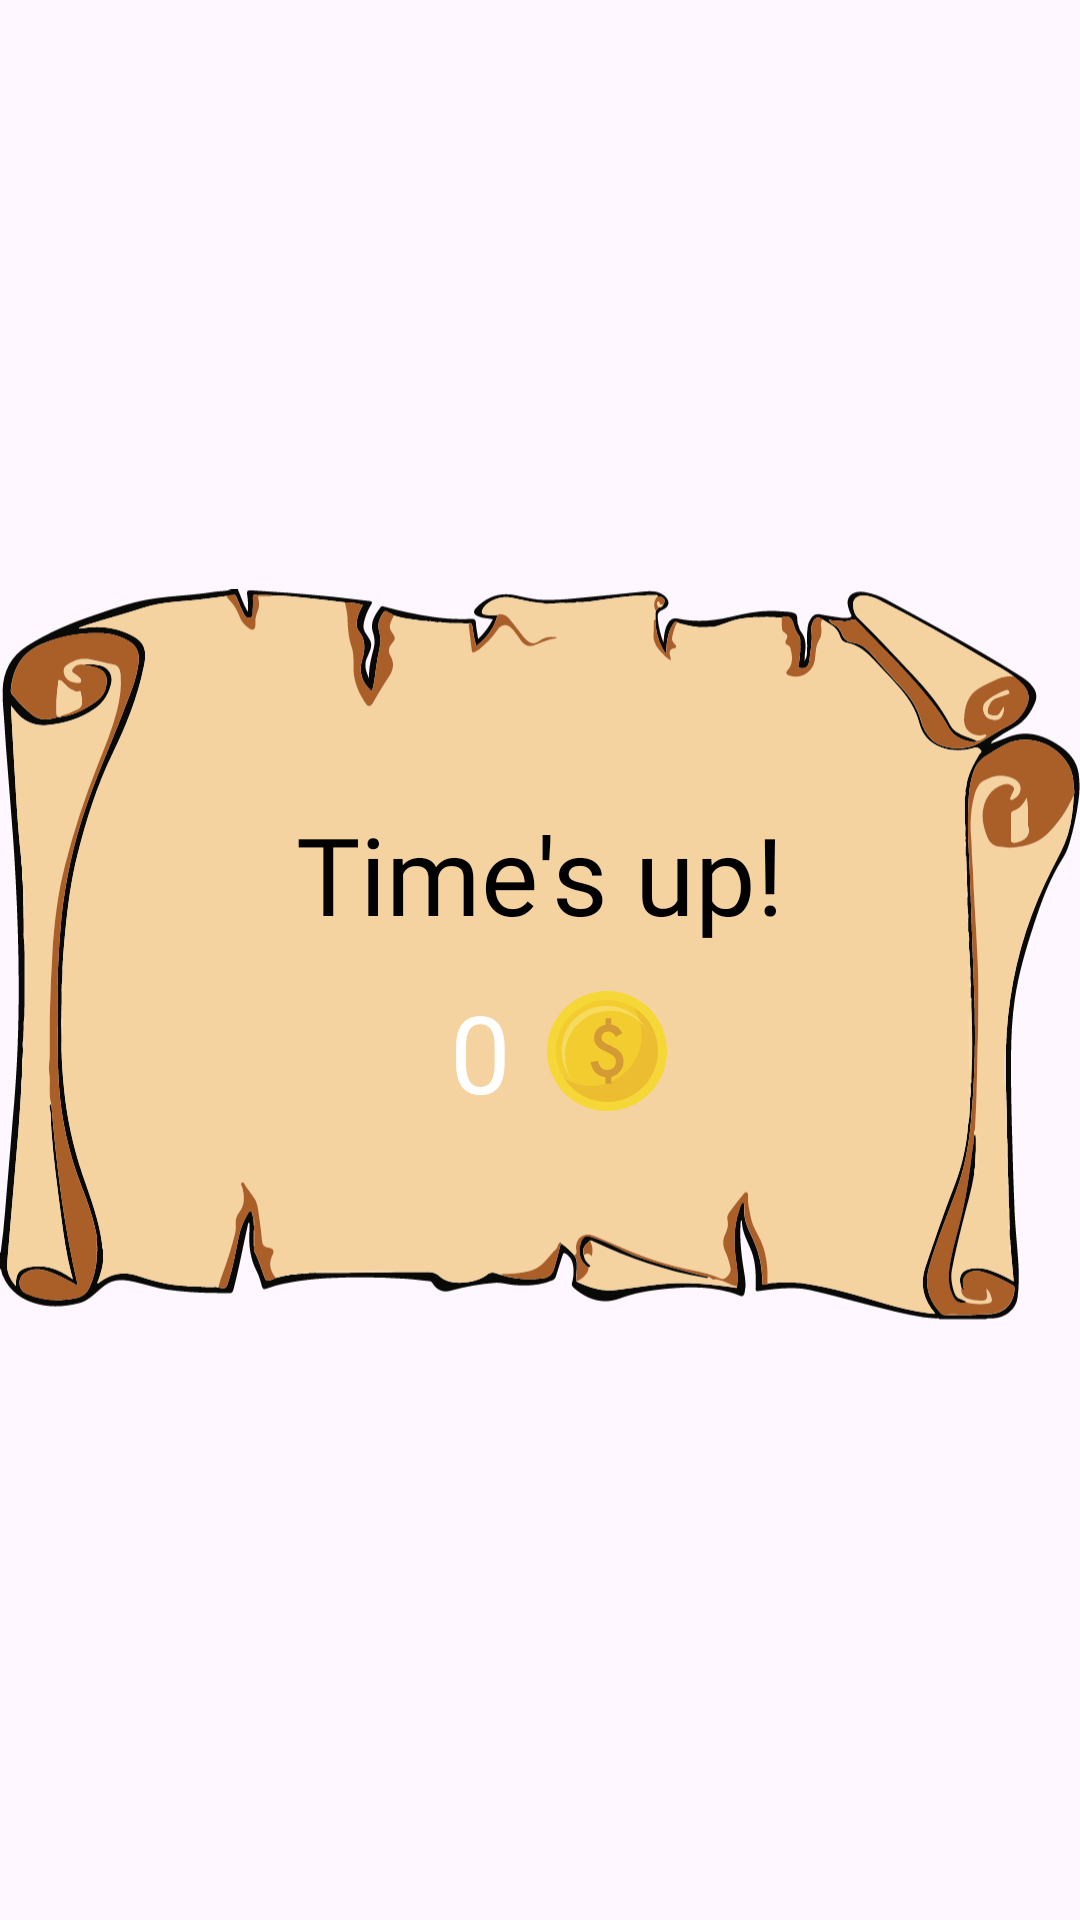

Named icons in this screenshot (1080x1920) and their bounding boxes, (x1, y1, x2, y2):
coin: (547, 991, 667, 1111)
